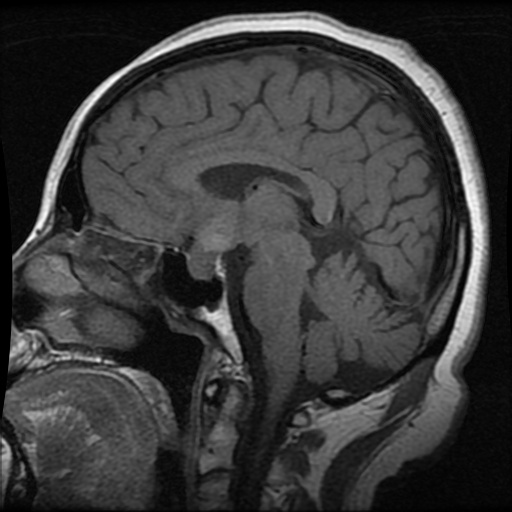pituitary: (190, 209, 243, 276)
